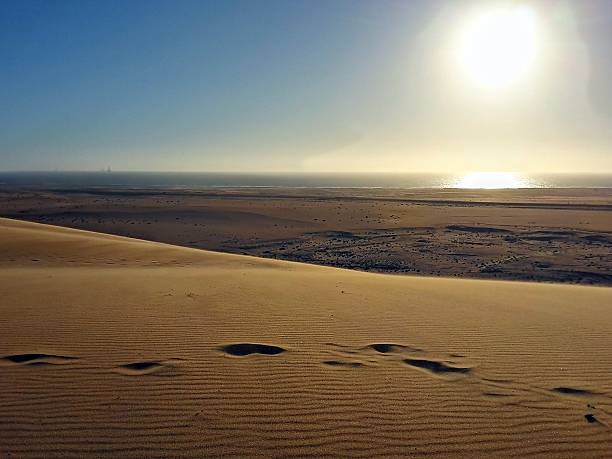human_footprint: (322, 342, 611, 426), (113, 358, 182, 376), (0, 353, 78, 365), (219, 343, 286, 356)
